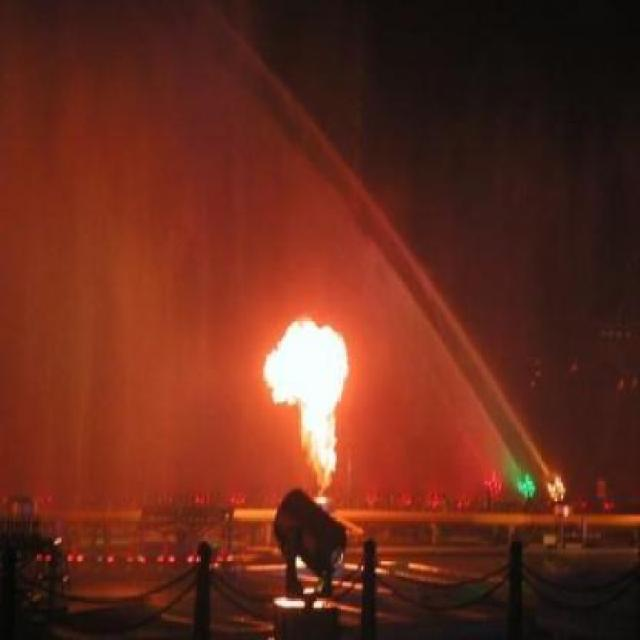Fire: (260, 314, 349, 498)
